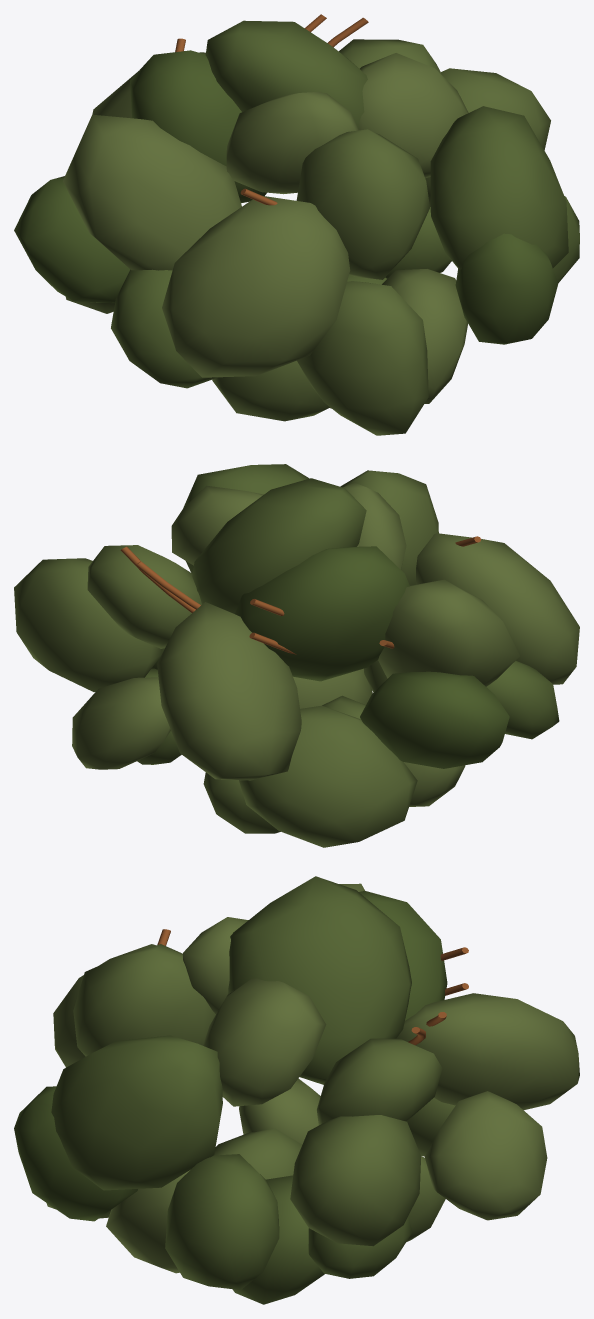
Rendered from packed_charge.glb.
The picture shows the model from 3 angles, top to bottom: view 1: azimuth 30°, elevation 25°; view 2: azimuth 150°, elevation 25°; view 3: azimuth 270°, elevation 25°; orthographic projection. The views are drawn at different scales.
Visible parts, largest first — view 1: PackedCharge; view 2: PackedCharge; view 3: PackedCharge.
Boxes of the visible parts, left/top/right/bottom form: PackedCharge: left=14, top=14, right=579, bottom=435; PackedCharge: left=14, top=464, right=579, bottom=847; PackedCharge: left=14, top=876, right=579, bottom=1304.
Size of the model in its own units: 0.00306 by 0.00211 by 0.0029.
